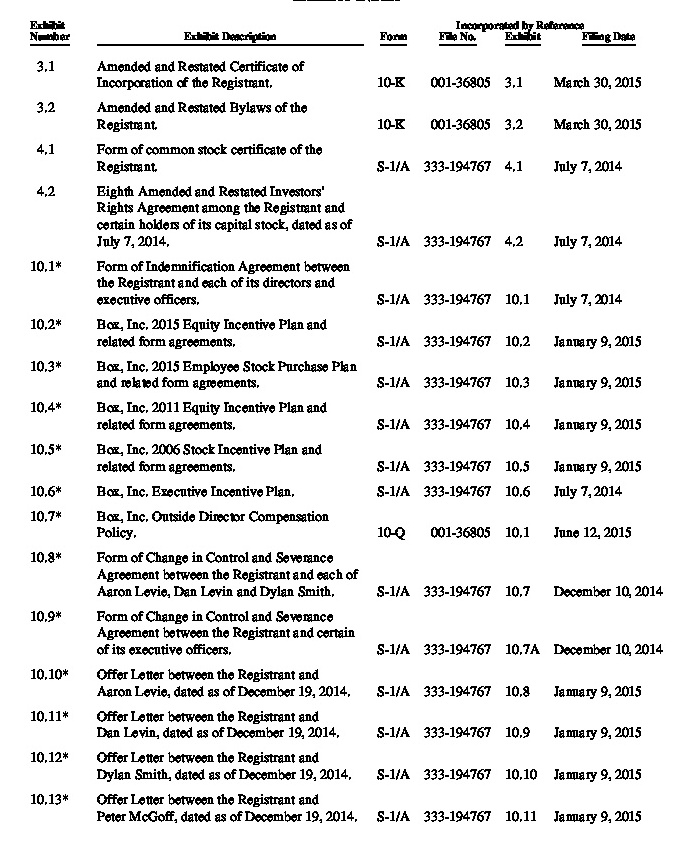table: (0, 0, 676, 851)
